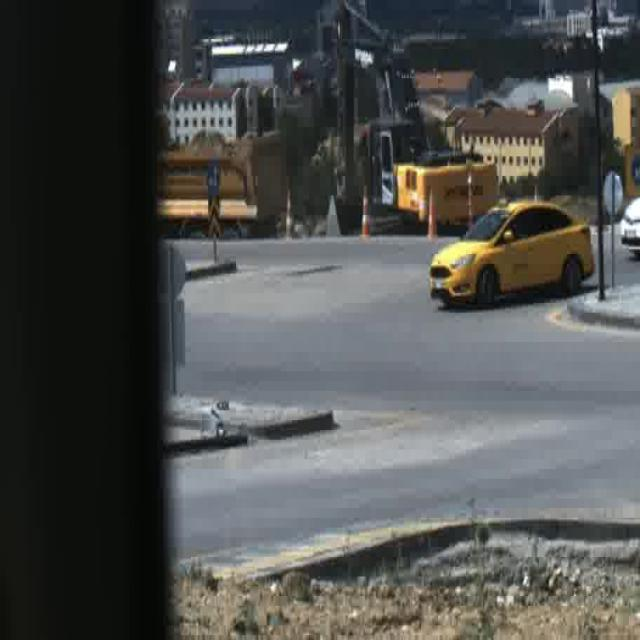Car: (429, 200, 593, 308), (618, 196, 640, 261)
